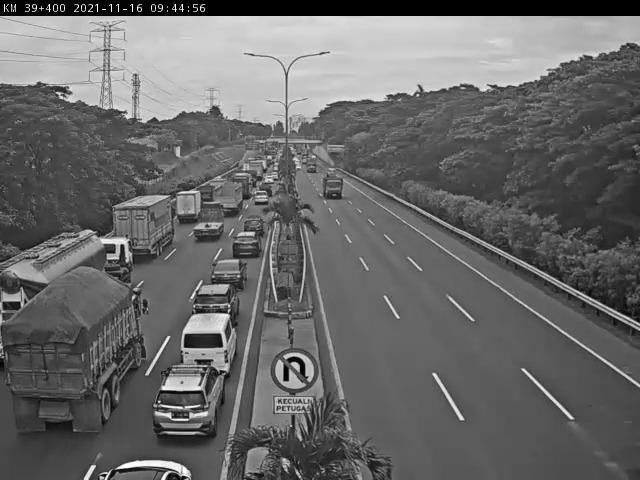car: (152, 366, 224, 438), (180, 314, 235, 375), (188, 286, 236, 334), (207, 259, 244, 291), (229, 232, 261, 261), (240, 218, 267, 242), (249, 187, 270, 208)
small truck: (169, 189, 200, 225)
truck-l-: (0, 273, 152, 432), (112, 194, 179, 260), (211, 180, 247, 219)
truck-m-: (191, 203, 226, 245)
truck-xl-: (0, 232, 132, 337)
